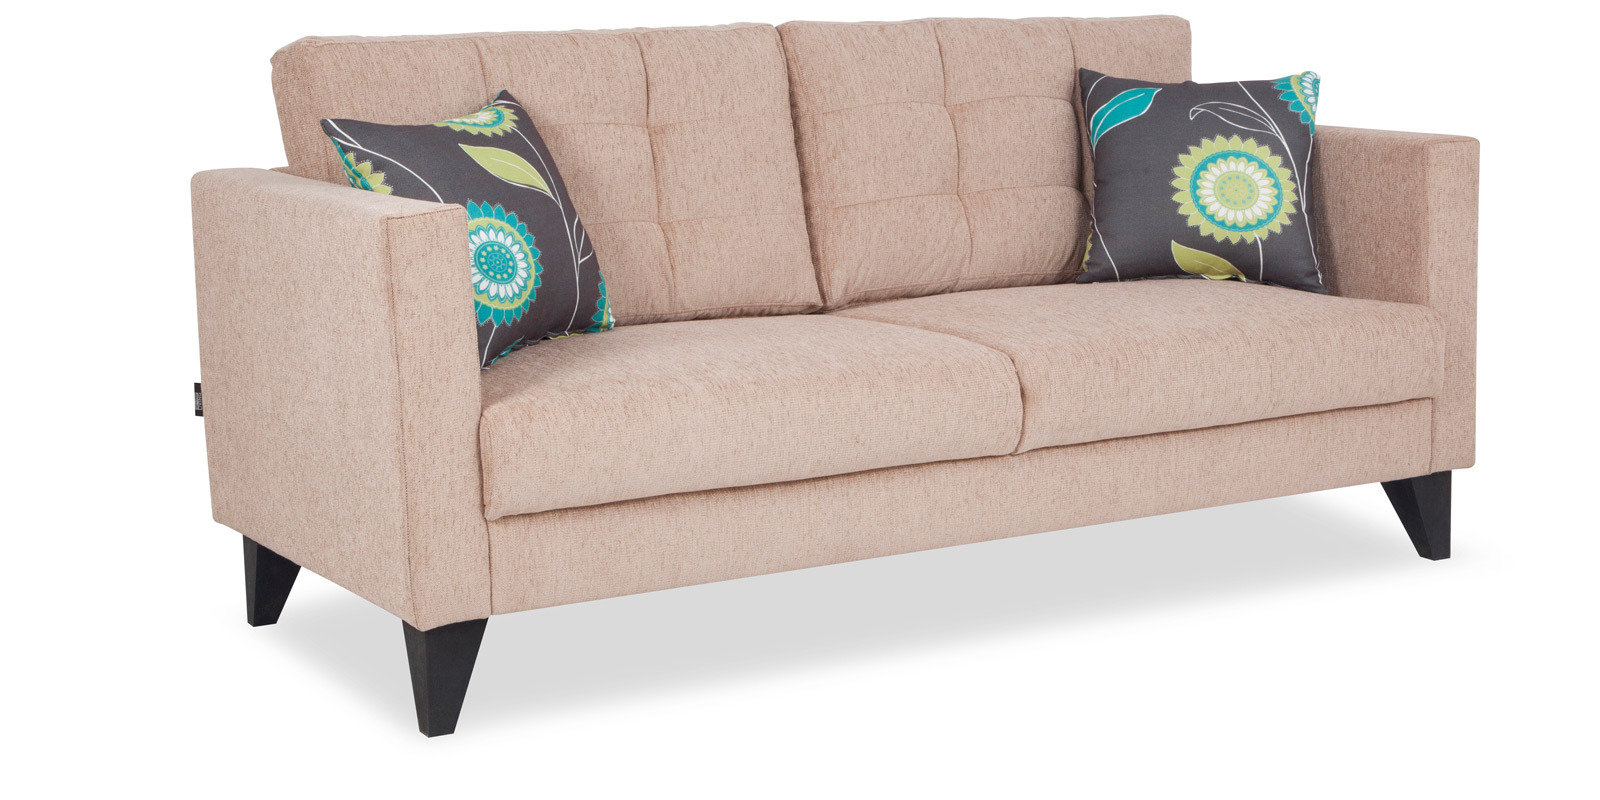Greenwich Three Seater Sofa in Beige Colour by Urban Living: (182, 19, 1505, 740)
